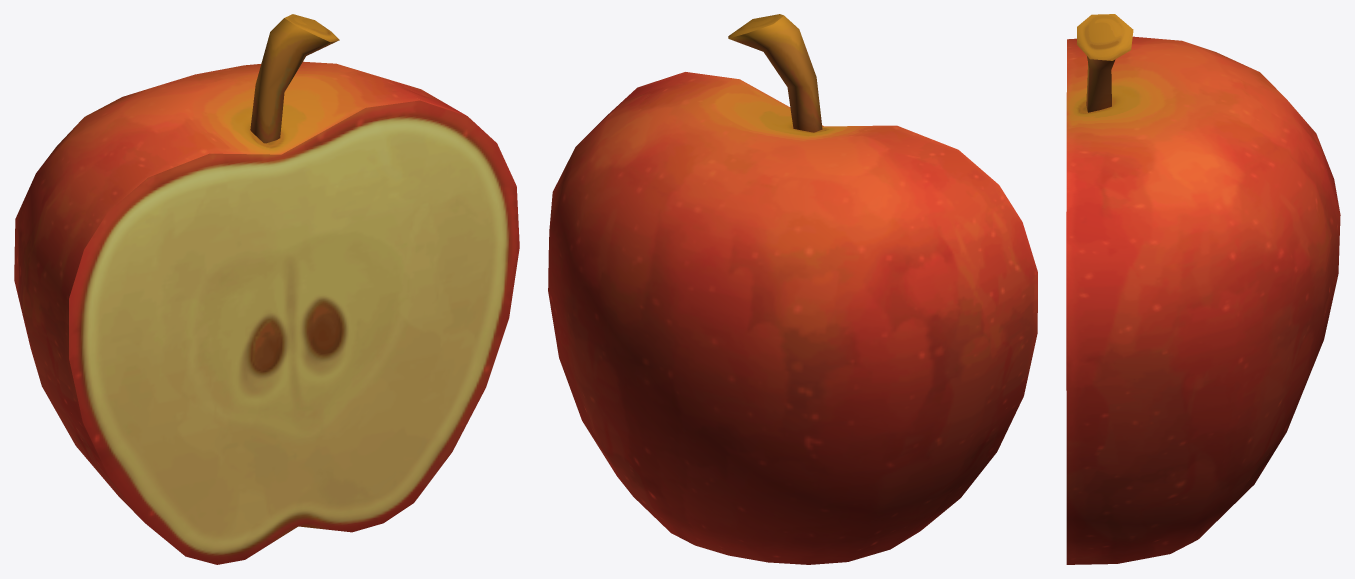
File: SM_AppleRedCut.fbx
3 views of the same model, side by side, from view 1: azimuth 30°, elevation 25°; view 2: azimuth 150°, elevation 25°; view 3: azimuth 270°, elevation 25° (orthographic).
Visible parts, largest first — view 1: SM_AppleRedCut; view 2: SM_AppleRedCut; view 3: SM_AppleRedCut.
Part boxes in pixels (x1,y1,x2,y2): SM_AppleRedCut: (14,14,519,564); SM_AppleRedCut: (548,14,1037,564); SM_AppleRedCut: (1066,14,1340,564).
Size of the model in its own units: 13.06 by 14.11 by 6.81.
